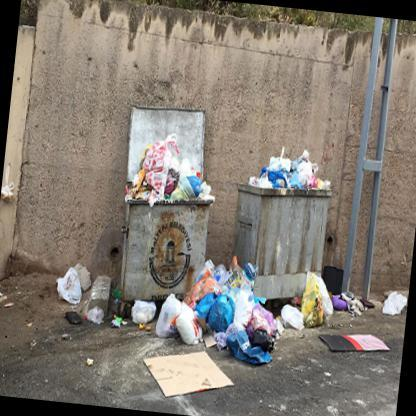Garbage: (199, 257, 285, 376), (248, 151, 336, 189), (291, 269, 338, 333), (134, 136, 178, 200), (42, 301, 108, 336), (169, 302, 203, 358), (238, 301, 274, 347), (184, 278, 228, 314), (126, 294, 158, 336), (156, 297, 183, 342), (378, 286, 408, 326), (173, 162, 205, 198), (280, 306, 312, 342), (50, 269, 80, 306), (223, 281, 264, 307), (233, 258, 260, 294), (194, 260, 232, 282), (385, 288, 408, 321), (162, 167, 180, 196), (226, 250, 246, 273), (108, 311, 124, 334), (198, 181, 211, 204), (126, 184, 137, 200), (85, 353, 95, 370)
